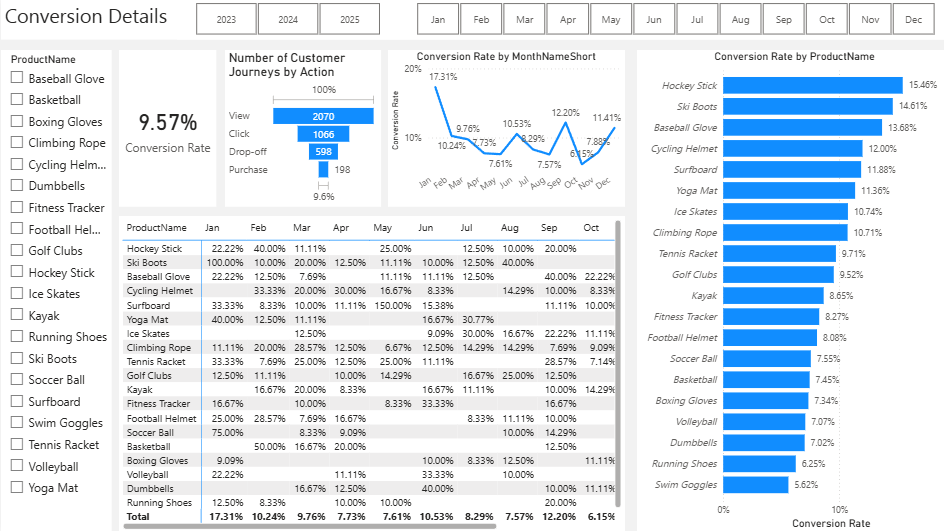

This screenshot's page, from the dashboard's own definition file:
{"tool":"powerbi","page":{"name":"Conversion Details","canvas":[1280,720],"ordinal":1},"visuals":[{"type":"textbox","box":[0,0,1280.2,56.2],"z":0},{"type":"slicer","fields":{"Values":["dim_products.ProductName"]},"box":[0,70,148.6,650],"z":1000},{"type":"card","fields":{"Values":["_Calculation.Conversion Rate"]},"box":[158.6,70,131.4,211.4],"z":2000},{"type":"slicer","fields":{"Values":["Calendar.Year"]},"box":[237.1,0,297.1,55.7],"z":3000},{"type":"slicer","fields":{"Values":["Calendar.MonthNameShort"]},"box":[534.3,0,745.7,55.7],"z":4000},{"type":"lineChart","fields":{"Y":["_Calculation.Conversion Rate"],"Category":["Calendar.MonthNameShort"]},"box":[521.4,70,318.6,211.4],"z":5000},{"type":"clusteredBarChart","fields":{"Category":["dim_products.ProductName"],"Y":["_Calculation.Conversion Rate"]},"box":[855.7,70,424.3,650],"z":6000},{"type":"pivotTable","fields":{"Values":["_Calculation.Conversion Rate"],"Rows":["dim_products.ProductName"],"Columns":["Calendar.MonthNameShort"]},"box":[158.6,292.9,681.4,427.1],"z":7000},{"type":"funnel","fields":{"Y":["_Calculation.Number of Customer Journeys"],"Category":["fact_customer_journey.Action"]},"box":[301.4,70,210,211.4],"z":8000}]}

Visuals, with their boxes in screenshot pixels (x1, y1, x2, y2), scaled from the page's 1280x720 canvas onto the 944x531 screenshot:
textbox: x1=0, y1=0, x2=943, y2=41
slicer - dim_products.ProductName: x1=0, y1=52, x2=110, y2=530
card - _Calculation.Conversion Rate: x1=117, y1=52, x2=214, y2=208
slicer - Calendar.Year: x1=175, y1=0, x2=394, y2=41
slicer - Calendar.MonthNameShort: x1=394, y1=0, x2=943, y2=41
lineChart - _Calculation.Conversion Rate x Calendar.MonthNameShort: x1=385, y1=52, x2=620, y2=208
clusteredBarChart - dim_products.ProductName x _Calculation.Conversion Rate: x1=631, y1=52, x2=943, y2=530
pivotTable - _Calculation.Conversion Rate x dim_products.ProductName: x1=117, y1=216, x2=620, y2=530
funnel - _Calculation.Number of Customer Journeys x fact_customer_journey.Action: x1=222, y1=52, x2=377, y2=208
